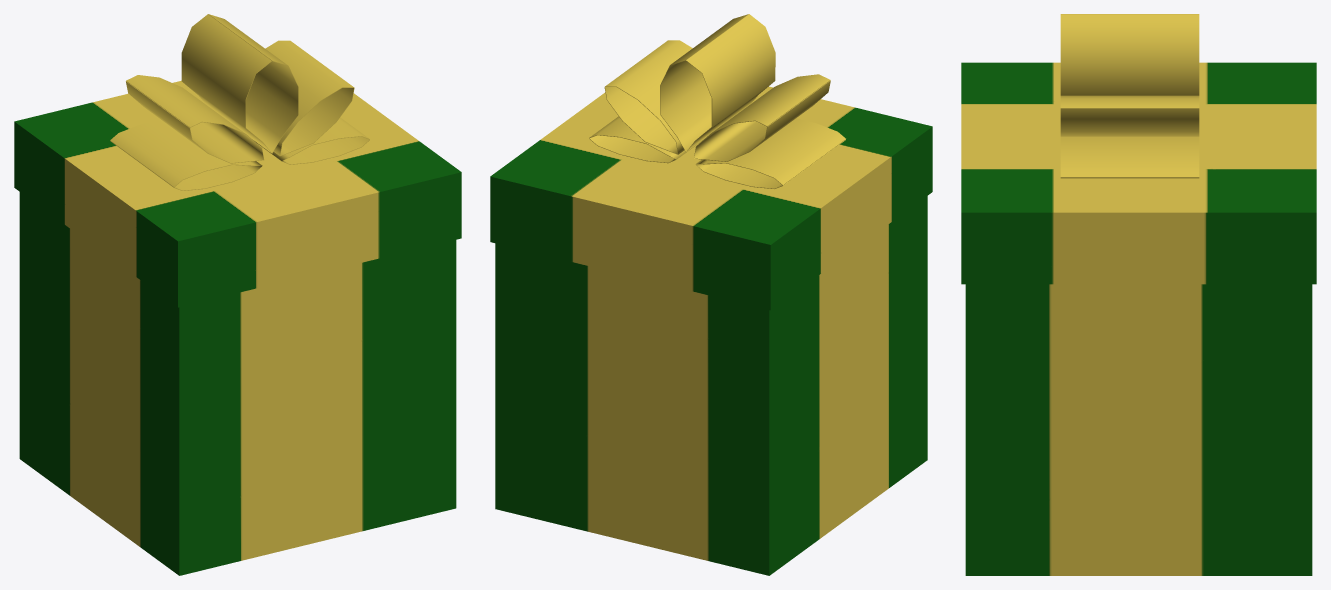
The model's file is present_plain_ver3.fbx.
The picture shows the model from 3 angles, left to right: view 1: azimuth 30°, elevation 25°; view 2: azimuth 150°, elevation 25°; view 3: azimuth 270°, elevation 25°; orthographic projection. The views are drawn at different scales.
Visible parts, largest first — view 1: Box, Top; view 2: Box, Top; view 3: Box, Top.
Boxes of the visible parts, x1,y1,x2,y2 form: Box: [19, 192, 456, 575]; Top: [14, 14, 461, 307]; Box: [495, 196, 927, 575]; Top: [490, 14, 932, 310]; Box: [965, 284, 1312, 575]; Top: [961, 14, 1316, 284].
Size of the model in its own units: 10.24 by 15.52 by 10.24.
